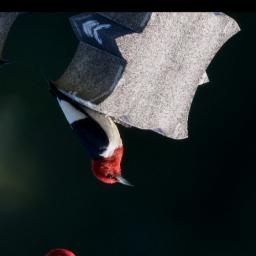Woodpecker: (9, 71, 167, 198)
